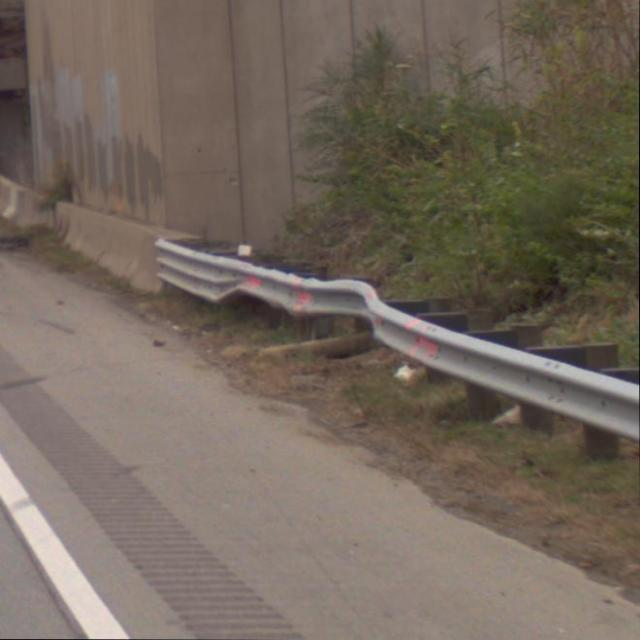Guard rail: (152, 230, 640, 469)
